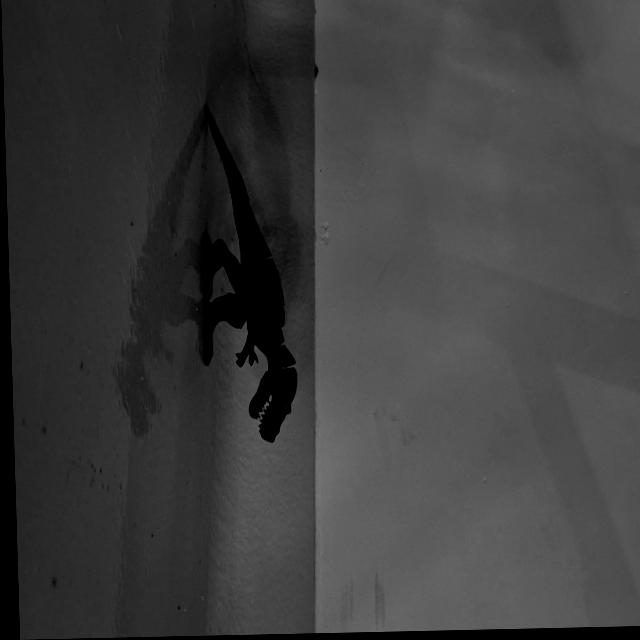dino: (195, 102, 299, 447)
